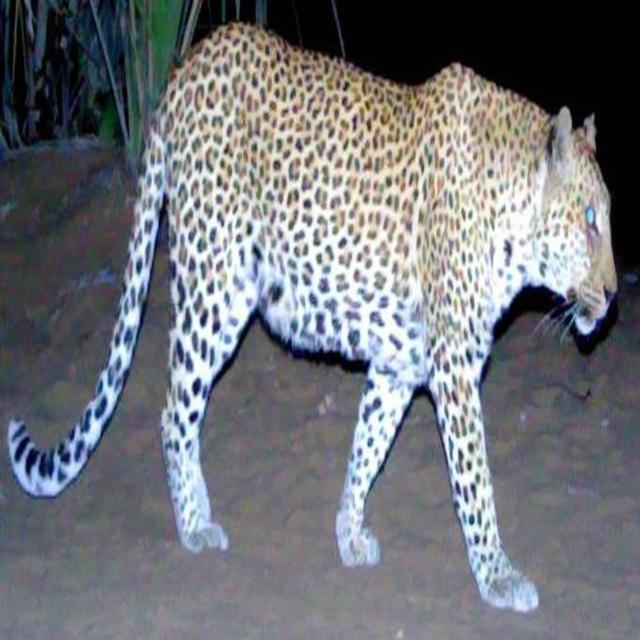Leopard: (31, 61, 622, 587)
